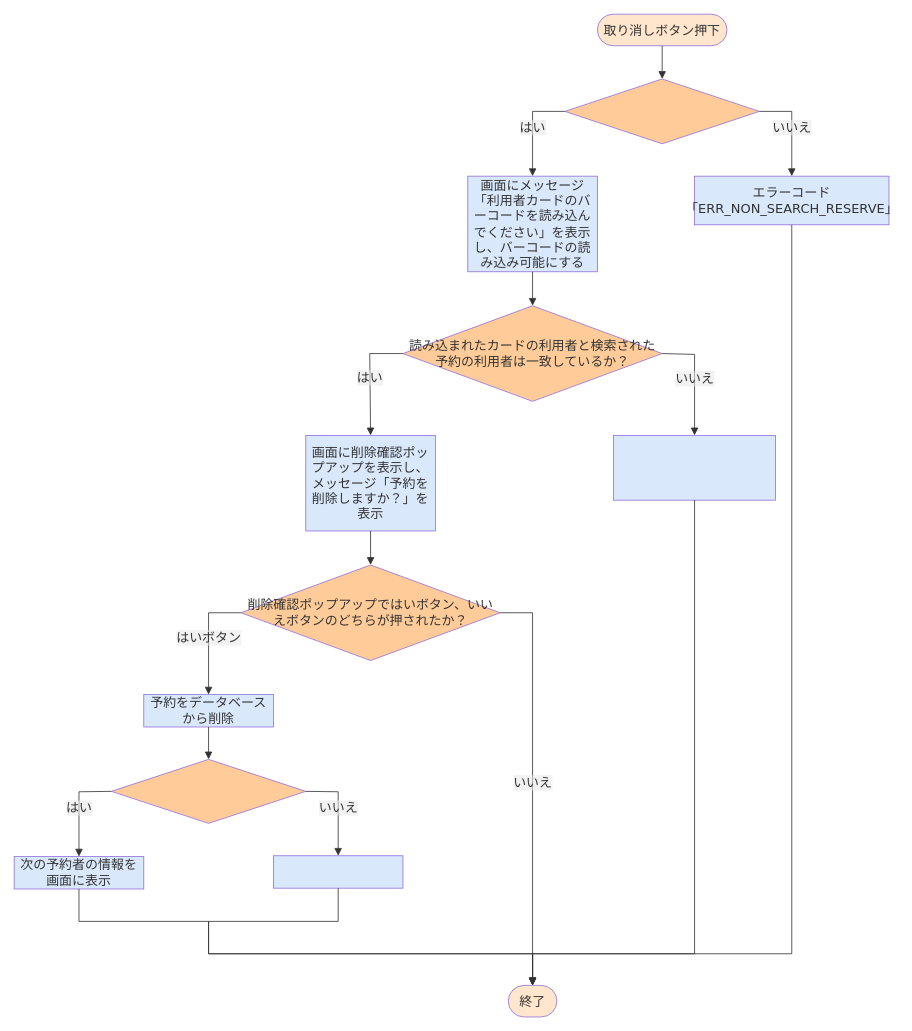
The diagram is 912 pixels wide and 1031 high, and some of its shapes have lost their labels. Each missing label, with the box of its shape:
エラーコード「ERR_DIFFERENT_USER」: (613, 435, 776, 500)
検索された予約があるか？: (564, 78, 759, 144)
蔵書に次の予約者がいるか？: (111, 759, 306, 823)
蔵書の状態を貸出可能に変更: (273, 855, 403, 888)
